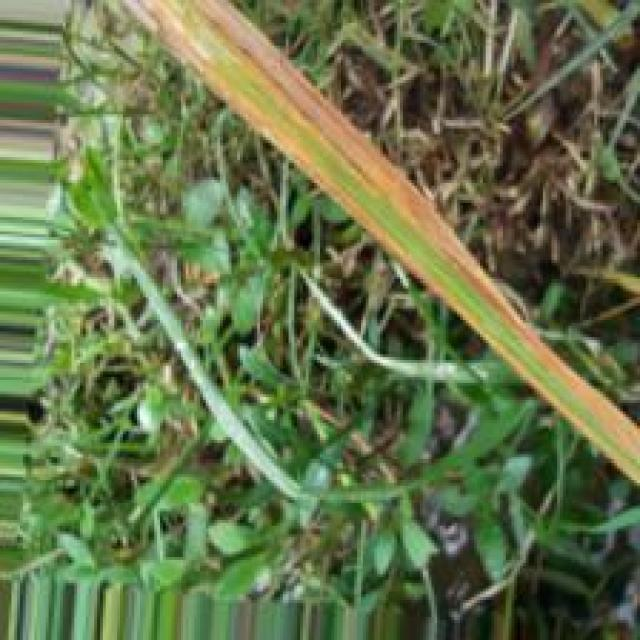Bacterial_Leaf_Blight: (130, 1, 640, 483), (196, 0, 640, 460)
